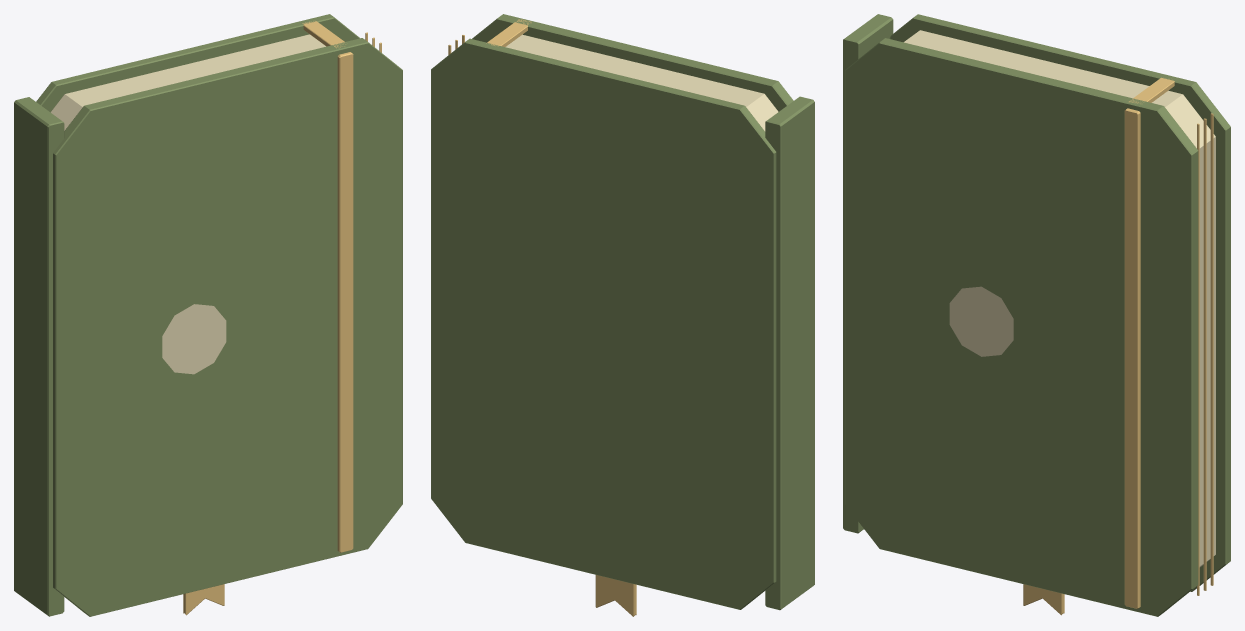
File: notebook.glb
3 renders of one model, left to right at view 1: azimuth 30°, elevation 25°; view 2: azimuth 150°, elevation 25°; view 3: azimuth 330°, elevation 25°, orthographic.
Parts seen in each view (by area): view 1: notebook; view 2: notebook; view 3: notebook.
Boxes of the visible parts, <box> form: notebook: <box>14,14,402,616</box>; notebook: <box>431,14,814,616</box>; notebook: <box>843,14,1230,616</box>.
Bounding box in the file's own units: 0.147 × 0.2199 × 0.03.
